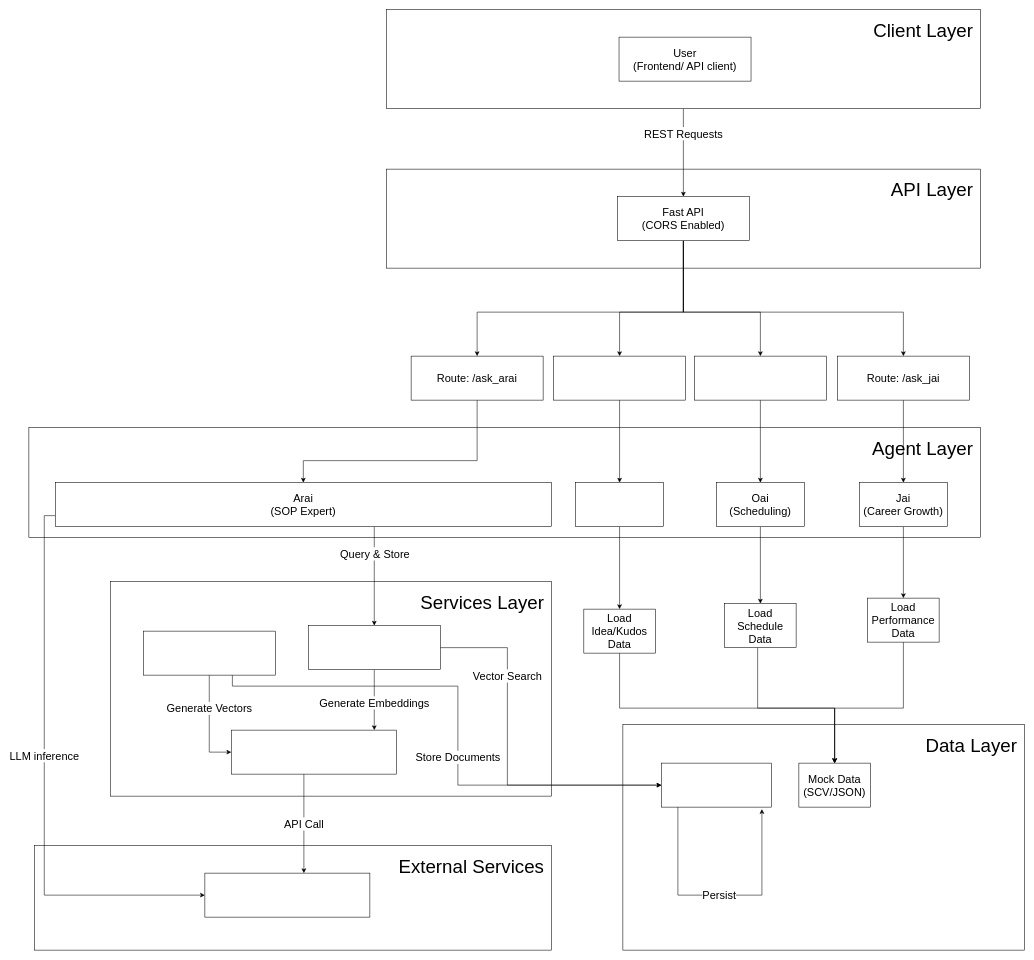
The diagram is 1034 pixels wide and 960 high, and some of its shapes have lost their labels. The shapes that lost their labels are listed below. From the top down, each one's centre as x and y in pixels, then its label:
At (619,378): "Route: /kai_arai".
At (760,378): "Route: /ask_oai".
At (619,504): "Kai (Community)".
At (209,653): "Ingestion Service (PDF/TXT Processing)".
At (374,647): "Retrieval Service (RAG pipeline)".
At (313,752): "Embeddings Service (Vector Generation)".
At (716,785): "ChromaDB (Vector Database)".
At (287,895): "OpenAI API (LLM + Embeddings)".
